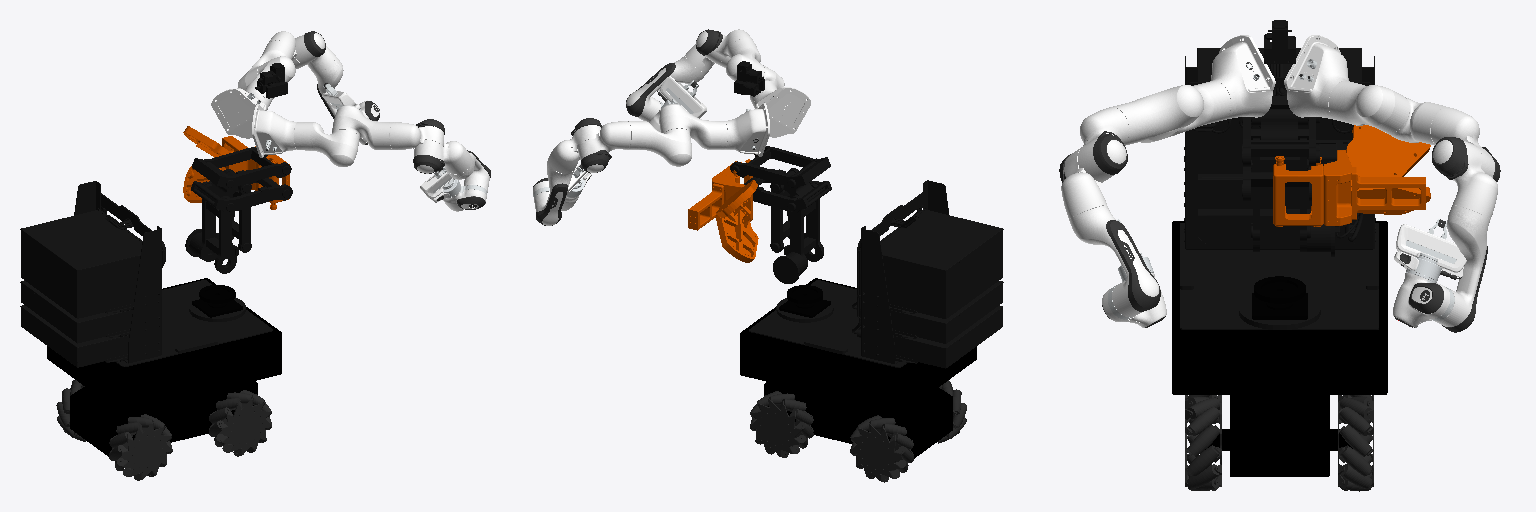
--- Facts derived from the render (not from the file) ---
Views: 3 orthographic renders of the robot side by side, from view 1: azimuth 30°, elevation 25°; view 2: azimuth 150°, elevation 25°; view 3: azimuth 270°, elevation 25°.
Model curi with 41 links and 40 joints (23 revolute, 4 continuous, 4 prismatic, 8 fixed, 1 floating), rooted at world, posed all joints at 0 but 2 set to mid-range because 0 is outside their limits (panda_left_joint4 = -1.57, panda_right_joint4 = -1.57).
Visible links, largest first — view 1: control_box, summit_xls_base_link, summit_xls_back_right_wheel_link, summit_xls_front_right_wheel_link, torso_link_b2, torso_end, torso_link_c2, panda_right_link1, panda_left_link0, panda_right_link0, torso_link_c1, panda_right_link4 (+11 smaller); view 2: control_box, summit_xls_base_link, torso_end, summit_xls_back_left_wheel_link, summit_xls_front_left_wheel_link, torso_link_b2, torso_link_c2, panda_left_link2, panda_right_link0, panda_right_link5, panda_left_link1, panda_left_link0 (+10 smaller); view 3: control_box, summit_xls_base_link, torso_end, panda_right_link5, panda_right_link0, panda_left_link0, panda_left_link5, summit_xls_front_right_wheel_link, panda_right_link2, panda_left_link4, summit_xls_front_left_wheel_link, panda_left_link1 (+16 smaller).
Link boxes in pixels (bbox=[...]): control_box: bbox=[20, 181, 272, 367]; summit_xls_base_link: bbox=[47, 278, 281, 456]; summit_xls_back_right_wheel_link: bbox=[109, 414, 172, 480]; summit_xls_front_right_wheel_link: bbox=[209, 390, 271, 456]; torso_link_b2: bbox=[185, 184, 238, 273]; torso_end: bbox=[183, 126, 289, 209]; torso_link_c2: bbox=[192, 147, 291, 189]; panda_right_link1: bbox=[294, 122, 359, 166]; panda_left_link0: bbox=[211, 88, 267, 138]; panda_right_link0: bbox=[252, 104, 296, 157]; torso_link_c1: bbox=[191, 169, 292, 213]; panda_right_link4: bbox=[413, 140, 470, 173]; control_box: bbox=[749, 180, 1003, 368]; summit_xls_base_link: bbox=[740, 278, 976, 458]; torso_end: bbox=[688, 159, 758, 262]; summit_xls_back_left_wheel_link: bbox=[850, 415, 913, 482]; summit_xls_front_left_wheel_link: bbox=[750, 391, 813, 457]; torso_link_b2: bbox=[773, 183, 823, 283]; torso_link_c2: bbox=[730, 146, 830, 188]; panda_left_link2: bbox=[628, 121, 691, 166]; panda_right_link0: bbox=[754, 87, 810, 137]; panda_right_link5: bbox=[626, 54, 706, 121]; panda_left_link1: bbox=[659, 104, 727, 149]; panda_left_link0: bbox=[724, 103, 769, 156]; control_box: bbox=[1180, 48, 1378, 329]; summit_xls_base_link: bbox=[1172, 221, 1387, 476]; torso_end: bbox=[1273, 125, 1430, 226]; panda_right_link5: bbox=[1069, 205, 1160, 316]; panda_right_link0: bbox=[1211, 35, 1275, 119]; panda_left_link0: bbox=[1284, 35, 1348, 119]; panda_left_link5: bbox=[1435, 205, 1489, 332]; summit_xls_front_right_wheel_link: bbox=[1185, 397, 1221, 490]; panda_right_link2: bbox=[1113, 85, 1203, 145]; panda_left_link4: bbox=[1432, 137, 1497, 219]; summit_xls_front_left_wheel_link: bbox=[1338, 397, 1373, 491]; panda_left_link1: bbox=[1329, 81, 1409, 132].
Bounding box of the posed robot: 1.76 × 1.18 × 1.51 m (x, y, z).
37 mesh visuals loaded from 25 distinct referenced files (23 Collada DAE); not drawn: 2 (reference not matched to a file when rendering).

robot.urdf — curi:
<?xml version="1.0" ?>
<!-- =================================================================================== -->
<!-- |    This document was autogenerated by xacro from ../robots/curi.urdf.xacro      | -->
<!-- |    EDITING THIS FILE BY HAND IS NOT RECOMMENDED                                 | -->
<!-- =================================================================================== -->
<robot name="curi">
  <!-- in kg-->
  <!-- =============================================================== -->
  <!-- || This file does not contain official inertial properties   || -->
  <!-- || of panda robot. The values are from the identification    || -->
  <!-- || results published in: Identification of the Franka Emika  || -->
  <!-- || PandaRobot With Retrieval of Feasible Parameters Using    || -->
  <!-- || Penalty-Based Optimization                                || -->
  <!-- || by: Claudio Gaz, Marco Cognetti, Alexander Oliva,         || -->
  <!-- || Paolo Robuffo Giordano, Alessandro de Luca                || -->
  <!-- =============================================================== -->
  <link name="world"/>
  <joint name="reference" type="floating">
    <parent link="world"/>
    <child link="summit_xls_base_footprint"/>
  </joint>
  <link name="summit_xls_base_footprint">
    <visual>
      <origin rpy="0 0 0" xyz="0 0 0"/>
      <geometry>
        <box size="0.001 0.001 0.001"/>
      </geometry>
    </visual>
  </link>
  <joint name="summit_xls_base_footprint_joint" type="fixed">
    <origin rpy="0 0 0" xyz="0 0 0.127"/>
    <parent link="summit_xls_base_footprint"/>
    <child link="summit_xls_base_link"/>
  </joint>
  <!-- BASE_LINK -->
  <link name="summit_xls_base_link">
    <inertial>
      <mass value="125.0"/>
      <origin xyz="0 0 0"/>
      <inertia ixx="1.391" ixy="0.004" ixz="0.0" iyy="6.853" iyz="0.0" izz="6.125"/>
    </inertial>
    <visual>
      <origin rpy="0 0 0" xyz="0 0 0"/>
      <geometry>
        <mesh filename="../meshes/robotnik/bases/summit_xls_chassis.dae"/>
      </geometry>
      <material name="black">
        <color rgba="0.0 0.0 0.0 1"/>
      </material>
    </visual>
    <collision>
      <origin rpy="0 0 0 " xyz="0 0 0"/>
      <geometry>
        <mesh filename="../meshes/robotnik/bases/summit_xls_chassis.stl"/>
      </geometry>
    </collision>
  </link>
  <joint name="summit_xls_front_right_wheel_joint" type="continuous">
    <parent link="summit_xls_base_link"/>
    <child link="summit_xls_front_right_wheel_link"/>
    <origin rpy="0 0 0" xyz="0.2225 -0.2045 0.0"/>
    <axis rpy="0 0 0" xyz="0 1 0"/>
    <limit effort="100" velocity="100"/>
    <joint_properties damping="0.0" friction="0.0"/>
  </joint>
  <link name="summit_xls_front_right_wheel_link">
    <visual>
      <origin rpy="0 0 0" xyz="0 0 0"/>
      <geometry>
        <mesh filename="../meshes/robotnik/wheels/omni_wheel_2.dae"/>
      </geometry>
      <material name="darkgrey">
        <color rgba="0.2 0.2 0.2 1"/>
      </material>
    </visual>
    <collision>
      <origin rpy="1.5707963267948966 0 0" xyz="0 0 0"/>
      <geometry>
        <cylinder length="0.087" radius="0.127"/>
      </geometry>
    </collision>
    <inertial>
      <mass value="6.5"/>
      <origin xyz="0 0 0"/>
      <inertia ixx="0.0303095" ixy="0" ixz="0" iyy="0.05241925" iyz="0" izz="0.0303095"/>
    </inertial>
  </link>
  <joint name="summit_xls_front_left_wheel_joint" type="continuous">
    <parent link="summit_xls_base_link"/>
    <child link="summit_xls_front_left_wheel_link"/>
    <origin rpy="0 0 0" xyz="0.2225 0.2045 0.0"/>
    <axis rpy="0 0 0" xyz="0 1 0"/>
    <limit effort="100" velocity="100"/>
    <joint_properties damping="0.0" friction="0.0"/>
  </joint>
  <link name="summit_xls_front_left_wheel_link">
    <visual>
      <origin rpy="0 0 0" xyz="0 0 0"/>
      <geometry>
        <mesh filename="../meshes/robotnik/wheels/omni_wheel_1.dae"/>
      </geometry>
      <material name="darkgrey">
        <color rgba="0.2 0.2 0.2 1"/>
      </material>
    </visual>
    <collision>
      <origin rpy="1.5707963267948966 0 0" xyz="0 0 0"/>
      <geometry>
        <cylinder length="0.087" radius="0.127"/>
      </geometry>
    </collision>
    <inertial>
      <mass value="6.5"/>
      <origin xyz="0 0 0"/>
      <inertia ixx="0.0303095" ixy="0" ixz="0" iyy="0.05241925" iyz="0" izz="0.0303095"/>
    </inertial>
  </link>
  <joint name="summit_xls_back_left_wheel_joint" type="continuous">
    <parent link="summit_xls_base_link"/>
    <child link="summit_xls_back_left_wheel_link"/>
    <origin rpy="0 0 0" xyz="-0.2225 0.2045 0.0"/>
    <axis rpy="0 0 0" xyz="0 1 0"/>
    <limit effort="100" velocity="100"/>
    <joint_properties damping="0.0" friction="0.0"/>
  </joint>
  <link name="summit_xls_back_left_wheel_link">
    <visual>
      <origin rpy="0 0 0" xyz="0 0 0"/>
      <geometry>
        <mesh filename="../meshes/robotnik/wheels/omni_wheel_1.dae"/>
      </geometry>
      <material name="darkgrey">
        <color rgba="0.2 0.2 0.2 1"/>
      </material>
    </visual>
    <collision>
      <origin rpy="1.5707963267948966 0 0" xyz="0 0 0"/>
      <geometry>
        <cylinder length="0.087" radius="0.127"/>
      </geometry>
    </collision>
    <inertial>
      <mass value="6.5"/>
      <origin xyz="0 0 0"/>
      <inertia ixx="0.0303095" ixy="0" ixz="0" iyy="0.05241925" iyz="0" izz="0.0303095"/>
    </inertial>
  </link>
  <joint name="summit_xls_back_right_wheel_joint" type="continuous">
    <parent link="summit_xls_base_link"/>
    <child link="summit_xls_back_right_wheel_link"/>
    <origin rpy="0 0 0" xyz="-0.2225 -0.2045 0.0"/>
    <axis rpy="0 0 0" xyz="0 1 0"/>
    <limit effort="100" velocity="100"/>
    <joint_properties damping="0.0" friction="0.0"/>
  </joint>
  <link name="summit_xls_back_right_wheel_link">
    <visual>
      <origin rpy="0 0 0" xyz="0 0 0"/>
      <geometry>
        <mesh filename="../meshes/robotnik/wheels/omni_wheel_2.dae"/>
      </geometry>
      <material name="darkgrey">
        <color rgba="0.2 0.2 0.2 1"/>
      </material>
    </visual>
    <collision>
      <origin rpy="1.5707963267948966 0 0" xyz="0 0 0"/>
      <geometry>
        <cylinder length="0.087" radius="0.127"/>
      </geometry>
    </collision>
    <inertial>
      <mass value="6.5"/>
      <origin xyz="0 0 0"/>
      <inertia ixx="0.0303095" ixy="0" ixz="0" iyy="0.05241925" iyz="0" izz="0.0303095"/>
    </inertial>
  </link>
  <joint name="torso_joint_summit_xls_base_footprint" type="fixed">
    <parent link="summit_xls_base_footprint"/>
    <child link="control_box"/>
    <origin rpy="0 0 0" xyz="0 0 0.52262"/>
  </joint>
  <link name="control_box">
    <visual>
      <origin rpy="0 0 0" xyz="0 0 0"/>
      <geometry>
        <mesh filename="../meshes/clover/visual/control_box.dae"/>
      </geometry>
    </visual>
    <inertial>
      <!-- Estimated guesses from CAD -->
      <origin rpy="0 0 0" xyz="-0.221652 1.4173e-02 0.165597"/>
      <mass value="37.813"/>
      <inertia ixx="1.672305973" ixy="-0.023504956" ixz="-0.565170381" iyy="2.616747309" iyz="0.046623093" izz="2.524344244"/>
    </inertial>
  </link>
  <link name="torso_base1">
    <visual>
      <origin rpy="0 0 0" xyz="0 0 0"/>
      <geometry>
        <mesh filename="../meshes/clover/visual/torso_base1.dae"/>
      </geometry>
    </visual>
    <collision>
      <origin rpy="0 0 0" xyz="0 0 0"/>
      <geometry>
        <mesh filename="../meshes/clover/collision/torso_base1.stl"/>
      </geometry>
    </collision>
    <inertial>
      <origin rpy="0 0 0" xyz="0 0 0.02555"/>
      <mass value="1.18"/>
      <inertia ixx="0.00241116" ixy="0" ixz="0" iyy="0.00241116" iyz="0" izz="0.00362611"/>
    </inertial>
  </link>
  <joint name="torso_joint1" type="fixed">
    <origin rpy="0 0 0" xyz="0.2375 0 0.015"/>
    <parent link="control_box"/>
    <child link="torso_base1"/>
  </joint>
  <link name="torso_base2">
    <visual>
      <origin rpy="0 0 0" xyz="0 0 0"/>
      <geometry>
        <mesh filename="../meshes/clover/visual/torso_base2.dae"/>
      </geometry>
    </visual>
    <collision>
      <origin rpy="0 0 0" xyz="0 0 0"/>
      <geometry>
        <mesh filename="../meshes/clover/collision/torso_base2.stl"/>
      </geometry>
    </collision>
    <inertial>
      <origin rpy="0 0 0" xyz="-0.05478 0.03332 -0.07616"/>
      <mass value="35.66"/>
      <inertia ixx="0.87275935" ixy="-0.06173772" ixz="0.01895727" iyy="0.57302356" iyz="0.11888755" izz="1.06212354"/>
    </inertial>
  </link>
  <joint name="torso_actuated_joint1" type="revolute">
    <safety_controller k_position="100.0" k_velocity="40.0" soft_lower_limit="-1.5" soft_upper_limit="1.5"/>
    <origin rpy="0 0 0" xyz="0 0 0.215"/>
    <parent link="torso_base1"/>
    <child link="torso_base2"/>
    <axis xyz="0 0 1"/>
    <limit acceleration="0.6" effort="300" lower="-1.57" upper="1.57" velocity="0.3"/>
    <dynamics D="1" K="7000" damping="0.003" friction="0.0" mu_coulomb="0" mu_viscous="16"/>
  </joint>
  <link name="torso_link_b2">
    <visual>
      <origin rpy="0 0 0" xyz="0 0 0"/>
      <geometry>
        <mesh filename="../meshes/clover/visual/torso_link_b2.dae"/>
      </geometry>
    </visual>
    <collision>
      <origin rpy="0 0 0" xyz="0 0 0"/>
      <geometry>
        <mesh filename="../meshes/clover/collision/torso_link_b2.stl"/>
      </geometry>
    </collision>
    <inertial>
      <origin rpy="0 0 0" xyz="2.066e-03 2.4036e-02 8.3361e-02"/>
      <mass value="2.698"/>
      <inertia ixx="0.035907338" ixy="-0.000134319" ixz="0.000037769" iyy="0.023944853" iyz="-0.005304362" izz="0.014484777"/>
    </inertial>
  </link>
  <joint name="torso_actuated_joint2" type="revolute">
    <safety_controller k_position="100.0" k_velocity="40.0" soft_lower_limit="-1.2" soft_upper_limit="0.5"/>
    <origin rpy="0 0 0" xyz="0 0 0"/>
    <parent link="torso_base2"/>
    <child link="torso_link_b2"/>
    <axis xyz="0 1 0"/>
    <limit acceleration="0.6" effort="300" lower="-1.2" upper="0.5" velocity="0.3"/>
    <dynamics D="1" K="7000" damping="0.003" friction="0.0" mu_coulomb="0" mu_viscous="16"/>
  </joint>
  <link name="torso_middle">
    <visual>
      <origin rpy="0 0 0" xyz="0 0 0"/>
      <geometry>
        <mesh filename="../meshes/clover/visual/torso_middle.dae"/>
      </geometry>
    </visual>
    <collision>
      <origin rpy="0 0 0" xyz="0 0 0"/>
      <geometry>
        <mesh filename="../meshes/clover/collision/torso_middle.stl"/>
      </geometry>
    </collision>
    <inertial>
      <origin rpy="0 0 0" xyz="3.2089e-02 0 4.789e-02"/>
      <mass value="2.688"/>
      <inertia ixx="0.00744652" ixy="-0.00003495" ixz="0.000230038" iyy="0.006884728" iyz="0.000041279" izz="0.008084049"/>
    </inertial>
  </link>
  <joint name="torso_joint5" type="revolute">
    <safety_controller k_position="100.0" k_velocity="40.0" soft_lower_limit="-0.5" soft_upper_limit="1.2"/>
    <origin rpy="0 0 0" xyz="0 0 0.25"/>
    <parent link="torso_link_b2"/>
    <child link="torso_middle"/>
    <axis xyz="0 1 0"/>
    <limit acceleration="0.6" effort="300" lower="-0.5" upper="1.2" velocity="0.3"/>
    <dynamics D="1" K="7000" damping="0.003" friction="0.0" mu_coulomb="0" mu_viscous="16"/>
    <mimic joint="torso_actuated_joint2" multiplier="-1"/>
  </joint>
  <link name="torso_link_c1">
    <visual>
      <origin rpy="0 0 0" xyz="0 0 0"/>
      <geometry>
        <mesh filename="../meshes/clover/visual/torso_link_c1.dae"/>
      </geometry>
    </visual>
    <collision>
      <origin rpy="0 0 0" xyz="0 0 0"/>
      <geometry>
        <mesh filename="../meshes/clover/collision/torso_link_c1.stl"/>
      </geometry>
    </collision>
    <inertial>
      <origin rpy="0 0 0" xyz="0.10533 1.503e-03 9.863e-03"/>
      <mass value="2.4"/>
      <inertia ixx="0.014986407" ixy="-1.7102e-05" ixz="-4.53321e-04" iyy="0.027549549" iyz="-3.557e-05" izz="0.041344611"/>
    </inertial>
  </link>
  <joint name="torso_actuated_joint3" type="revolute">
    <safety_controller k_position="100.0" k_velocity="40.0" soft_lower_limit="-0.9" soft_upper_limit="0.9"/>
    <origin rpy="0 0 0" xyz="0 0 0"/>
    <parent link="torso_middle"/>
    <child link="torso_link_c1"/>
    <axis xyz="0 1 0"/>
    <limit acceleration="0.6" effort="300" lower="-0.9" upper="0.9" velocity="0.3"/>
    <dynamics D="1" K="7000" damping="0.003" friction="0.0" mu_coulomb="0" mu_viscous="16"/>
  </joint>
  <link name="torso_end">
    <visual>
      <origin rpy="0 0 0" xyz="0 0 0"/>
      <geometry>
        <mesh filename="../meshes/clover/visual/torso_end_v2_yup.dae"/>
      </geometry>
    </visual>
    <collision>
      <origin rpy="0 0 0" xyz="0 0 0"/>
      <geometry>
        <mesh filename="../meshes/clover/collision/torso_end_v2_yup.stl"/>
      </geometry>
    </collision>
    <inertial>
      <origin rpy="0 0 0" xyz="1.3086e-02 0.132e-03 0.184066"/>
      <mass value="12.083"/>
      <inertia ixx="0.146638956" ixy="-2.2432e-05" ixz="-0.012989506" iyy="0.097685785" iyz="-2.19304e-04" izz="0.100449047"/>
    </inertial>
  </link>
  <joint name="torso_joint8" type="revolute">
    <safety_controller k_position="100.0" k_velocity="40.0" soft_lower_limit="-0.9" soft_upper_limit="0.9"/>
    <origin rpy="0 0 0" xyz="0.25 0 0"/>
    <parent link="torso_link_c1"/>
    <child link="torso_end"/>
    <axis xyz="0 1 0"/>
    <limit acceleration="0.6" effort="300" lower="-0.9" upper="0.9" velocity="0.3"/>
    <dynamics D="1" K="7000" damping="0.003" friction="0.0" mu_coulomb="0" mu_viscous="16"/>
    <mimic joint="torso_actuated_joint3" multiplier="-1"/>
  </joint>
  <link name="torso_link_b1">
    <visual>
      <origin rpy="0 0 0" xyz="0 0 0"/>
      <geometry>
        <mesh filename="../meshes/clover/visual/torso_link_b1.dae"/>
      </geometry>
    </visual>
    <collision>
      <origin rpy="0 0 0" xyz="0 0 0"/>
      <geometry>
        <mesh filename="../meshes/clover/collision/torso_link_b1.stl"/>
      </geometry>
    </collision>
    <inertial>
      <origin rpy="0 0 0" xyz="0 -0.362e-03 0.12405"/>
      <mass value="1.319"/>
      <inertia ixx="0.01417626" ixy="0" ixz="0" iyy="0.01069895" iyz="0.00005678" izz="0.0039678"/>
    </inertial>
  </link>
  <joint name="torso_joint4" type="revolute">
    <safety_controller k_position="100.0" k_velocity="40.0" soft_lower_limit="-1.2" soft_upper_limit="0.5"/>
    <origin rpy="0 0 0" xyz="0.0866 0 0.05"/>
    <parent link="torso_base2"/>
    <child link="torso_link_b1"/>
    <axis xyz="0 1 0"/>
    <limit acceleration="0.6" effort="300" lower="-1.2" upper="0.5" velocity="0.3"/>
    <dynamics D="1" K="7000" damping="0.003" friction="0.0" mu_coulomb="0" mu_viscous="16"/>
    <mimic joint="torso_actuated_joint2" multiplier="1"/>
  </joint>
  <link name="torso_link_c2">
    <visual>
      <origin rpy="0 0 0" xyz="0 0 0"/>
      <geometry>
        <mesh filename="../meshes/clover/visual/torso_link_c2.dae"/>
      </geometry>
    </visual>
    <collision>
      <origin rpy="0 0 0" xyz="0 0 0"/>
      <geometry>
        <mesh filename="../meshes/clover/collision/torso_link_c2.stl"/>
      </geometry>
    </collision>
    <inertial>
      <origin rpy="0 0 0" xyz="0.120384 0.569e-03 6.703e-03"/>
      <mass value="2.148"/>
      <inertia ixx="0.010693997" ixy="5.645e-06" ixz="-9.4779e-04" iyy="0.026717753" iyz="-8.196e-06" izz="0.036543169"/>
    </inertial>
  </link>
  <joint name="torso_joint7" type="revolute">
    <safety_controller k_position="100.0" k_velocity="40.0" soft_lower_limit="-0.9" soft_upper_limit="0.9"/>
    <origin rpy="0 0 0" xyz="0 0 0.1"/>
    <parent link="torso_middle"/>
    <child link="torso_link_c2"/>
    <axis xyz="0 1 0"/>
    <limit acceleration="0.6" effort="300" lower="-0.9" upper="0.9" velocity="0.3"/>
    <dynamics D="1" K="7000" damping="0.003" friction="0.0" mu_coulomb="0" mu_viscous="16"/>
    <mimic joint="torso_actuated_joint3" multiplier="1"/>
  </joint>
  <joint name="head_joint_torso_end" type="fixed">
    <parent link="torso_end"/>
    <child link="head_base"/>
    <origin rpy="0 0 0" xyz="0.02 0 0.3929"/>
  </joint>
  <link name="head_base">
    <visual>
      <origin rpy="0 0 0" xyz="0 0 0"/>
      <geometry>
        <mesh filename="../meshes/clover/visual/head_base.dae"/>
      </geometry>
    </visual>
    <collision>
      <origin rpy="0 0 0" xyz="0 0 0"/>
      <geometry>
        <mesh filename="../meshes/clover/collision/head_base.stl"/>
      </geometry>
    </collision>
    <inertial>
      <!-- Estimated guesses from CAD -->
      <origin rpy="0 0 0" xyz="-1.9726e-02 1.281e-03 2.2693e-02"/>
      <mass value="0.803"/>
      <inertia ixx="6.56432e-04" ixy="-3.4976e-05" ixz="0.652e-6" iyy="6.42664e-04" iyz="-1.577e-06" izz="1.046862e-03"/>
    </inertial>
  </link>
  <joint name="head_actuated_joint1" type="revolute">
    <safety_controller k_position="100.0" k_velocity="40.0" soft_lower_limit="-1.5" soft_upper_limit="1.5"/>
    <origin rpy="0 0 0" xyz="0 0 0.045"/>
    <parent link="head_base"/>
    <child link="head_link1"/>
    <axis xyz="0 0 1"/>
    <limit effort="30" lower="-1.57" upper="1.57" velocity="1.0"/>
    <dynamics D="1" K="7000" damping="0.003" friction="0.0" mu_coulomb="0" mu_viscous="16"/>
  </joint>
  <link name="head_link1">
    <visual>
      <origin rpy="0 0 0" xyz="0 0 0"/>
      <geometry>
        <mesh filename="../meshes/clover/visual/head_link1.dae"/>
      </geometry>
    </visual>
    <collision>
      <origin rpy="0 0 0" xyz="0 0 0"/>
      <geometry>
        <mesh filename="../meshes/clover/collision/head_link1.stl"/>
      </geometry>
    </collision>
    <inertial>
      <!-- Estimated guesses from CAD -->
      <origin rpy="0 0 0" xyz="-1.8392e-02 -0.4e-03 2.8338e-02"/>
      <mass value="0.534"/>
      <inertia ixx="2.34142e-04" ixy="-3.129e-06" ixz="6.321e-05" iyy="5.09246e-04" iyz="1.49e-06" izz="4.3777e-04"/>
    </inertial>
  </link>
  <joint name="head_actuated_joint2" type="revolute">
    <safety_controller k_position="100.0" k_velocity="40.0" soft_lower_limit="-0.8" soft_upper_limit="0.5"/>
    <origin rpy="0 0 0" xyz="0 0 0.043"/>
    <parent link="head_link1"/>
    <child link="head_link2"/>
    <axis xyz="0 1 0"/>
    <limit effort="30" lower="-0.82" upper="0.52" velocity="1.0"/>
    <dynamics D="1" K="7000" damping="0.003" friction="0.0" mu_coulomb="0" mu_viscous="16"/>
  </joint>
  <link name="head_link2">
    <visual>
      <origin rpy="0 0 0" xyz="0 0 0"/>
      <geometry>
        <mesh filename="../meshes/clover/visual/head_link2.dae"/>
      </geometry>
    </visual>
    <collision>
      <origin rpy="0 0 0" xyz="0 0 0"/>
      <geometry>
        <mesh filename="../meshes/clover/collision/head_link2.stl"/>
      </geometry>
    </collision>
    <inertial>
      <!-- Estimated guesses from CAD -->
      <origin rpy="0 0 0" xyz="3.8624e-02 0 0.143829"/>
      <mass value="1.346"/>
      <inertia ixx="0.010306864" ixy="-5.953e-06" ixz="6.74795e-04" iyy="0.011632066" iyz="-1.125e-06" izz="0.009582498"/>
    </inertial>
  </link>
  <joint name="panda_left_joint_torso_end" type="fixed">
    <parent link="torso_end"/>
    <child link="panda_left_link0"/>
    <origin rpy="-1.3685238493647454 0.913218224774749 -0.6168337646727412" xyz="-0.08537 0.07009 0.2535"/>
  </joint>
  <link name="panda_left_link0">
    <visual>
      <origin rpy="0 0 0" xyz="0 0 0"/>
      <geometry>
        <mesh filename="../meshes/franka/visual/link0.dae"/>
      </geometry>
    </visual>
    <collision>
      <origin rpy="0 0 0" xyz="0 0 0"/>
      <geometry>
        <mesh filename="../meshes/franka/collision/link0.stl"/>
      </geometry>
    </collision>
    <inertial>
      <!-- Estimated guesses from CAD -->
      <origin rpy="0 0 0" xyz="-0.041018 -0.00014 0.049974"/>
      <mass value="0.629769"/>
      <inertia ixx="0.00315" ixy="8.2904E-07" ixz="0.00015" iyy="0.00388" iyz="8.2299E-06" izz="0.004285"/>
    </inertial>
  </link>
  <link name="panda_left_link1">
    <visual>
      <origin rpy="0 0 0" xyz="0 0 0"/>
      <geometry>
        <mesh filename="../meshes/franka/visual/link1.dae"/>
      </geometry>
    </visual>
    <collision>
      <origin rpy="0 0 0" xyz="0 0 0"/>
      <geometry>
        <mesh filename="../meshes/franka/collision/link1.stl"/>
      </geometry>
    </collision>
    <inertial>
      <origin rpy="0 0 0" xyz="0.003875 0.002081 -0.04762"/>
      <mass value="4.970684"/>
      <inertia ixx="0.70337" ixy="-0.00013900" ixz="0.0067720" iyy="0.70661" iyz="0.019169" izz="0.0091170"/>
    </inertial>
  </link>
  <joint name="panda_left_joint1" type="revolute">
    <safety_controller k_position="100.0" k_velocity="40.0" soft_lower_limit="-2.8973" soft_upper_limit="2.8973"/>
    <origin rpy="0 0 0" xyz="0 0 0.333"/>
    <parent link="panda_left_link0"/>
    <child link="panda_left_link1"/>
    <axis xyz="0 0 1"/>
    <limit acceleration="15" effort="87" lower="-2.8973" upper="2.8973" velocity="2.1750"/>
    <dynamics D="1" K="7000" damping="0.003" friction="0.0" mu_coulomb="0" mu_viscous="16"/>
  </joint>
  <link name="panda_left_link2">
    <visual>
      <origin rpy="0 0 0" xyz="0 0 0"/>
      <geometry>
        <mesh filename="../meshes/franka/visual/link2.dae"/>
      </geometry>
    </visual>
    <collision>
      <origin rpy="0 0 0" xyz="0 0 0"/>
      <geometry>
        <mesh filename="../meshes/franka/collision/link2.stl"/>
      </geometry>
    </collision>
    <inertial>
      <origin rpy="0 0 0" xyz=" -0.003141 -0.02872  0.003495"/>
      <mass value="0.646926"/>
      <inertia ixx="0.0079620" ixy="-3.9250e-3" ixz="1.0254e-02" iyy="2.8110e-02" iyz="7.0400e-04" izz="2.5995e-02"/>
    </inertial>
  </link>
  <joint name="panda_left_joint2" type="revolute">
    <safety_controller k_position="100.0" k_velocity="40.0" soft_lower_limit="-1.7628" soft_upper_limit="1.7628"/>
    <origin rpy="-1.5707963267948966 0 0" xyz="0 0 0"/>
    <parent link="panda_left_link1"/>
    <child link="panda_left_link2"/>
    <axis xyz="0 0 1"/>
    <limit acceleration="7.5" effort="87" lower="-1.7628" upper="1.7628" velocity="2.1750"/>
    <dynamics D="1" K="7000" damping="0.003" friction="0.0" mu_coulomb="0" mu_viscous="16"/>
  </joint>
  <link name="panda_left_link3">
    <visual>
      <origin rpy="0 0 0" xyz="0 0 0"/>
      <geometry>
        <mesh filename="../meshes/franka/visual/link3.dae"/>
      </geometry>
    </visual>
    <collision>
      <origin rpy="0 0 0" xyz="0 0 0"/>
      <geometry>
        <mesh filename="../meshes/franka/collision/link3.stl"/>
      </geometry>
    </collision>
    <inertial>
      <origin rpy="0 0 0" xyz="2.7518e-02 3.9252e-02 -6.6502e-02"/>
      <mass value="3.228604"/>
      <inertia ixx="3.7242e-02" ixy="-4.7610e-03" ixz="-1.1396e-02" iyy="3.6155e-02" iyz="-1.2805e-02" izz="1.0830e-02"/>
    </inertial>
  </link>
  <joint name="panda_left_joint3" type="revolute">
    <safety_controller k_position="100.0" k_velocity="40.0" soft_lower_limit="-2.8973" soft_upper_limit="2.8973"/>
    <origin rpy="1.5707963267948966 0 0" xyz="0 -0.316 0"/>
    <parent link="panda_left_link2"/>
    <child link="panda_left_link3"/>
    <axis xyz="0 0 1"/>
    <limit acceleration="12.5" effort="87" lower="-2.8973" upper="2.8973" velocity="2.1750"/>
    <dynamics D="1" K="7000" damping="0.003" friction="0.0" mu_coulomb="0" mu_viscous="16"/>
  </joint>
  <link name="panda_left_link4">
    <visual>
      <origin rpy="0 0 0" xyz="0 0 0"/>
      <geometry>
        <mesh filename="../meshes/franka/visual/link4.dae"/>
      </geometry>
    </visual>
    <collision>
      <origin rpy="0 0 0" xyz="0 0 0"/>
      <geometry>
        <mesh filename="../meshes/franka/collision/link4.stl"/>
      </geometry>
    </collision>
    <inertial>
      <origin rpy="0 0 0" xyz="-5.317e-02 1.04419e-01 2.7454e-02"/>
      <mass value="3.587895"/>
      <inertia ixx="2.5853e-02" ixy="7.7960e-03" ixz="-1.3320e-03" iyy="1.9552e-02" iyz="8.6410e-03" izz="2.8323e-02"/>
    </inertial>
  </link>
  <joint name="panda_left_joint4" type="revolute">
    <safety_controller k_position="100.0" k_velocity="40.0" soft_lower_limit="-3.0718" soft_upper_limit="-0.0698"/>
    <origin rpy="1.5707963267948966 0 0" xyz="0.0825 0 0"/>
    <parent link="panda_left_link3"/>
    <child link="panda_left_link4"/>
    <axis xyz="0 0 1"/>
    <limit acceleration="12.5" effort="87" lower="-3.0718" upper="-0.0698" velocity="2.1750"/>
    <dynamics D="1" K="7000" damping="0.003" friction="0.0" mu_coulomb="0" mu_viscous="16"/>
  </joint>
  <link name="panda_left_link5">
    <visual>
      <origin rpy="0 0 0" xyz="0 0 0"/>
      <geometry>
        <mesh filename="../meshes/franka/visual/link5.dae"/>
      </geometry>
    </visual>
    <collision>
      <origin rpy="0 0 0" xyz="0 0 0"/>
      <geometry>
        <mesh filename="../meshes/franka/collision/link5.stl"/>
      </geometry>
    </collision>
    <inertial>
      <origin rpy="0 0 0" xyz="-1.1953e-02 4.1065e-02 -3.8437e-02"/>
      <mass value="1.225946"/>
      <inertia ixx="3.5549e-02" ixy="-2.1170e-03" ixz="-4.0370e-03" iyy="2.9474e-02" iyz="2.2900e-04" izz="8.6270e-03"/>
    </inertial>
  </link>
  <joint name="panda_left_joint5" type="revolute">
    <safety_controller k_position="100.0" k_velocity="40.0" soft_lower_limit="-2.8973" soft_upper_limit="2.8973"/>
    <origin rpy="-1.5707963267948966 0 0" xyz="-0.0825 0.384 0"/>
    <parent link="panda_left_link4"/>
    <child link="panda_left_link5"/>
    <axis xyz="0 0 1"/>
    <limit acceleration="15" effort="12" lower="-2.8973" upper="2.8973" velocity="2.6100"/>
    <dynamics D="1" K="7000" damping="0.003" friction="0.0" mu_coulomb="0" mu_viscous="16"/>
  </joint>
  <link name="panda_left_link6">
    <visual>
      <origin rpy="0 0 0" xyz="0 0 0"/>
      <geometry>
        <mesh filename="../meshes/franka/visual/link6.dae"/>
      </geometry>
    </visual>
    <collision>
      <origin rpy="0 0 0" xyz="0 0 0"/>
      <geometry>
        <mesh filename="../meshes/franka/collision/link6.stl"/>
      </geometry>
    </collision>
    <inertial>
      <origin rpy="0 0 0" xyz="6.0149e-02 -1.4117e-02 -1.0517e-02"/>
      <mass value="1.666555"/>
      <inertia ixx="1.9640e-03" ixy="1.0900e-04" ixz="-1.1580e-03" iyy="4.3540e-03" iyz="3.4100e-04" izz="5.4330e-03"/>
    </inertial>
  </link>
  <joint name="panda_left_joint6" type="revolute">
    <safety_controller k_position="100.0" k_velocity="40.0" soft_lower_limit="-0.0175" soft_upper_limit="3.7525"/>
    <origin rpy="1.5707963267948966 0 0" xyz="0 0 0"/>
    <parent link="panda_left_link5"/>
    <child link="panda_left_link6"/>
    <axis xyz="0 0 1"/>
    <limit acceleration="20" effort="12" lower="-0.0175" upper="3.7525" velocity="2.6100"/>
    <dynamics D="1" K="7000" damping="0.003" friction="0.0" mu_coulomb="0" mu_viscous="16"/>
  </joint>
  <link name="panda_left_link7">
    <visual>
      <origin rpy="0 0 0" xyz="0 0 0"/>
      <geometry>
        <mesh filename="../meshes/franka/visual/link7.dae"/>
      </geometry>
    </visual>
    <collision>
      <origin rpy="0 0 0" xyz="0 0 0"/>
      <geometry>
        <mesh filename="../meshes/franka/collision/link7.stl"/>
      </geometry>
    </collision>
    <inertial>
      <origin rpy="0 0 0" xyz="1.0517e-02 -4.252e-03 6.1597e-02"/>
      <mass value="7.35522e-01"/>
      <inertia ixx="1.2516e-02" ixy="-4.2800e-04" ixz="-1.1960e-03" iyy="1.0027e-02" iyz="-7.4100e-04" izz="4.8150e-03"/>
    </inertial>
  </link>
  <joint name="panda_left_joint7" type="revolute">
    <safety_controller k_position="100.0" k_velocity="40.0" soft_lower_limit="-2.8973" soft_upper_limit="2.8973"/>
    <origin rpy="1.5707963267948966 0 0" xyz="0.088 0 0"/>
    <parent link="panda_left_link6"/>
    <child link="panda_left_link7"/>
    <axis xyz="0 0 1"/>
    <limit acceleration="20" effort="12" lower="-2.8973" upper="2.8973" velocity="2.6100"/>
    <dynamics D="1" K="7000" damping="0.003" friction="0.0" mu_coulomb="0" mu_viscous="16"/>
  </joint>
  <joint name="panda_right_joint_torso_end" type="fixed">
    <parent link="torso_end"/>
    <child link="panda_right_link0"/>
    <origin rpy="1.3685238493647454 0.913218224774749 0.6168337646727412" xyz="-0.08537 -0.07009 0.2535"/>
  </joint>
  <link name="panda_right_link0">
    <visual>
      <origin rpy="0 0 0" xyz="0 0 0"/>
      <geometry>
        <mesh filename="../meshes/franka/visual/link0.dae"/>
      </geometry>
    </visual>
    <collision>
      <origin rpy="0 0 0" xyz="0 0 0"/>
      <geometry>
        <mesh filename="../meshes/franka/collision/link0.stl"/>
      </geometry>
    </collision>
    <inertial>
      <!-- Estimated guesses from CAD -->
      <origin rpy="0 0 0" xyz="-0.041018 -0.00014 0.049974"/>
      <mass value="0.629769"/>
      <inertia ixx="0.00315" ixy="8.2904E-07" ixz="0.00015" iyy="0.00388" iyz="8.2299E-06" izz="0.004285"/>
    </inertial>
  </link>
  <link name="panda_right_link1">
    <visual>
      <origin rpy="0 0 0" xyz="0 0 0"/>
      <geometry>
        <mesh filename="../meshes/franka/visual/link1.dae"/>
      </geometry>
    </visual>
    <collision>
      <origin rpy="0 0 0" xyz="0 0 0"/>
      <geometry>
        <mesh filename="../meshes/franka/collision/link1.stl"/>
      </geometry>
    </collision>
    <inertial>
      <origin rpy="0 0 0" xyz="0.003875 0.002081 -0.04762"/>
      <mass value="4.970684"/>
      <inertia ixx="0.70337" ixy="-0.00013900" ixz="0.0067720" iyy="0.70661" iyz="0.019169" izz="0.0091170"/>
    </inertial>
  </link>
  <joint name="panda_right_joint1" type="revolute">
    <safety_controller k_position="100.0" k_velocity="40.0" soft_lower_limit="-2.8973" soft_upper_limit="2.8973"/>
    <origin rpy="0 0 0" xyz="0 0 0.333"/>
    <parent link="panda_right_link0"/>
    <child link="panda_right_link1"/>
    <axis xyz="0 0 1"/>
    <limit acceleration="15" effort="87" lower="-2.8973" upper="2.8973" velocity="2.1750"/>
    <dynamics D="1" K="7000" damping="0.003" friction="0.0" mu_coulomb="0" mu_viscous="16"/>
  </joint>
  <link name="panda_right_link2">
    <visual>
      <origin rpy="0 0 0" xyz="0 0 0"/>
      <geometry>
        <mesh filename="../meshes/franka/visual/link2.dae"/>
      </geometry>
    </visual>
    <collision>
      <origin rpy="0 0 0" xyz="0 0 0"/>
      <geometry>
        <mesh filename="../meshes/franka/collision/link2.stl"/>
      </geometry>
    </collision>
    <inertial>
      <origin rpy="0 0 0" xyz=" -0.003141 -0.02872  0.003495"/>
      <mass value="0.646926"/>
      <inertia ixx="0.0079620" ixy="-3.9250e-3" ixz="1.0254e-02" iyy="2.8110e-02" iyz="7.0400e-04" izz="2.5995e-02"/>
    </inertial>
  </link>
  <joint name="panda_right_joint2" type="revolute">
    <safety_controller k_position="100.0" k_velocity="40.0" soft_lower_limit="-1.7628" soft_upper_limit="1.7628"/>
    <origin rpy="-1.5707963267948966 0 0" xyz="0 0 0"/>
    <parent link="panda_right_link1"/>
    <child link="panda_right_link2"/>
    <axis xyz="0 0 1"/>
    <limit acceleration="7.5" effort="87" lower="-1.7628" upper="1.7628" velocity="2.1750"/>
    <dynamics D="1" K="7000" damping="0.003" friction="0.0" mu_coulomb="0" mu_viscous="16"/>
  </joint>
  <link name="panda_right_link3">
    <visual>
      <origin rpy="0 0 0" xyz="0 0 0"/>
      <geometry>
        <mesh filename="../meshes/franka/visual/link3.dae"/>
      </geometry>
    </visual>
    <collision>
      <origin rpy="0 0 0" xyz="0 0 0"/>
      <geometry>
        <mesh filename="../meshes/franka/collision/link3.stl"/>
      </geometry>
    </collision>
    <inertial>
      <origin rpy="0 0 0" xyz="2.7518e-02 3.9252e-02 -6.6502e-02"/>
      <mass value="3.228604"/>
      <inertia ixx="3.7242e-02" ixy="-4.7610e-03" ixz="-1.1396e-02" iyy="3.6155e-02" iyz="-1.2805e-02" izz="1.0830e-02"/>
    </inertial>
  </link>
  <joint name="panda_right_joint3" type="revolute">
    <safety_controller k_position="100.0" k_velocity="40.0" soft_lower_limit="-2.8973" soft_upper_limit="2.8973"/>
    <origin rpy="1.5707963267948966 0 0" xyz="0 -0.316 0"/>
    <parent link="panda_right_link2"/>
    <child link="panda_right_link3"/>
    <axis xyz="0 0 1"/>
    <limit acceleration="12.5" effort="87" lower="-2.8973" upper="2.8973" velocity="2.1750"/>
    <dynamics D="1" K="7000" damping="0.003" friction="0.0" mu_coulomb="0" mu_viscous="16"/>
  </joint>
  <link name="panda_right_link4">
    <visual>
      <origin rpy="0 0 0" xyz="0 0 0"/>
      <geometry>
        <mesh filename="../meshes/franka/visual/link4.dae"/>
      </geometry>
    </visual>
    <collision>
      <origin rpy="0 0 0" xyz="0 0 0"/>
      <geometry>
        <mesh filename="../meshes/franka/collision/link4.stl"/>
      </geometry>
    </collision>
    <inertial>
      <origin rpy="0 0 0" xyz="-5.317e-02 1.04419e-01 2.7454e-02"/>
      <mass value="3.587895"/>
      <inertia ixx="2.5853e-02" ixy="7.7960e-03" ixz="-1.3320e-03" iyy="1.9552e-02" iyz="8.6410e-03" izz="2.8323e-02"/>
    </inertial>
  </link>
  <joint name="panda_right_joint4" type="revolute">
    <safety_controller k_position="100.0" k_velocity="40.0" soft_lower_limit="-3.0718" soft_upper_limit="-0.0698"/>
    <origin rpy="1.5707963267948966 0 0" xyz="0.0825 0 0"/>
    <parent link="panda_right_link3"/>
    <child link="panda_right_link4"/>
    <axis xyz="0 0 1"/>
    <limit acceleration="12.5" effort="87" lower="-3.0718" upper="-0.0698" velocity="2.1750"/>
    <dynamics D="1" K="7000" damping="0.003" friction="0.0" mu_coulomb="0" mu_viscous="16"/>
  </joint>
  <link name="panda_right_link5">
    <visual>
      <origin rpy="0 0 0" xyz="0 0 0"/>
      <geometry>
        <mesh filename="../meshes/franka/visual/link5.dae"/>
      </geometry>
    </visual>
    <collision>
      <origin rpy="0 0 0" xyz="0 0 0"/>
      <geometry>
        <mesh filename="../meshes/franka/collision/link5.stl"/>
      </geometry>
    </collision>
    <inertial>
      <origin rpy="0 0 0" xyz="-1.1953e-02 4.1065e-02 -3.8437e-02"/>
      <mass value="1.225946"/>
      <inertia ixx="3.5549e-02" ixy="-2.1170e-03" ixz="-4.0370e-03" iyy="2.9474e-02" iyz="2.2900e-04" izz="8.6270e-03"/>
    </inertial>
  </link>
  <joint name="panda_right_joint5" type="revolute">
    <safety_controller k_position="100.0" k_velocity="40.0" soft_lower_limit="-2.8973" soft_upper_limit="2.8973"/>
    <origin rpy="-1.5707963267948966 0 0" xyz="-0.0825 0.384 0"/>
    <parent link="panda_right_link4"/>
    <child link="panda_right_link5"/>
    <axis xyz="0 0 1"/>
    <limit acceleration="15" effort="12" lower="-2.8973" upper="2.8973" velocity="2.6100"/>
    <dynamics D="1" K="7000" damping="0.003" friction="0.0" mu_coulomb="0" mu_viscous="16"/>
  </joint>
  <link name="panda_right_link6">
    <visual>
      <origin rpy="0 0 0" xyz="0 0 0"/>
      <geometry>
        <mesh filename="../meshes/franka/visual/link6.dae"/>
      </geometry>
    </visual>
    <collision>
      <origin rpy="0 0 0" xyz="0 0 0"/>
      <geometry>
        <mesh filename="../meshes/franka/collision/link6.stl"/>
      </geometry>
    </collision>
    <inertial>
      <origin rpy="0 0 0" xyz="6.0149e-02 -1.4117e-02 -1.0517e-02"/>
      <mass value="1.666555"/>
      <inertia ixx="1.9640e-03" ixy="1.0900e-04" ixz="-1.1580e-03" iyy="4.3540e-03" iyz="3.4100e-04" izz="5.4330e-03"/>
    </inertial>
  </link>
  <joint name="panda_right_joint6" type="revolute">
    <safety_controller k_position="100.0" k_velocity="40.0" soft_lower_limit="-0.0175" soft_upper_limit="3.7525"/>
    <origin rpy="1.5707963267948966 0 0" xyz="0 0 0"/>
    <parent link="panda_right_link5"/>
    <child link="panda_right_link6"/>
    <axis xyz="0 0 1"/>
    <limit acceleration="20" effort="12" lower="-0.0175" upper="3.7525" velocity="2.6100"/>
    <dynamics D="1" K="7000" damping="0.003" friction="0.0" mu_coulomb="0" mu_viscous="16"/>
  </joint>
  <link name="panda_right_link7">
    <visual>
      <origin rpy="0 0 0" xyz="0 0 0"/>
      <geometry>
        <mesh filename="../meshes/franka/visual/link7.dae"/>
      </geometry>
    </visual>
    <collision>
      <origin rpy="0 0 0" xyz="0 0 0"/>
      <geometry>
        <mesh filename="../meshes/franka/collision/link7.stl"/>
      </geometry>
    </collision>
    <inertial>
      <origin rpy="0 0 0" xyz="1.0517e-02 -4.252e-03 6.1597e-02"/>
      <mass value="7.35522e-01"/>
      <inertia ixx="1.2516e-02" ixy="-4.2800e-04" ixz="-1.1960e-03" iyy="1.0027e-02" iyz="-7.4100e-04" izz="4.8150e-03"/>
    </inertial>
  </link>
  <joint name="panda_right_joint7" type="revolute">
    <safety_controller k_position="100.0" k_velocity="40.0" soft_lower_limit="-2.8973" soft_upper_limit="2.8973"/>
    <origin rpy="1.5707963267948966 0 0" xyz="0.088 0 0"/>
    <parent link="panda_right_link6"/>
    <child link="panda_right_link7"/>
    <axis xyz="0 0 1"/>
    <limit acceleration="20" effort="12" lower="-2.8973" upper="2.8973" velocity="2.6100"/>
    <dynamics D="1" K="7000" damping="0.003" friction="0.0" mu_coulomb="0" mu_viscous="16"/>
  </joint>
  <joint name="panda_left_hand_joint" type="fixed">
    <parent link="panda_left_link7"/>
    <child link="panda_left_hand"/>
    <origin rpy="0 0 -0.7853981633974483" xyz="0 0 0.107"/>
  </joint>
  <link name="panda_left_hand">
    <visual>
      <geometry>
        <mesh filename="../meshes/franka/visual/hand.dae"/>
      </geometry>
    </visual>
    <collision>
      <geometry>
        <mesh filename="../meshes/franka/collision/hand.stl"/>
      </geometry>
    </collision>
    <inertial>
      <mass value="0.73"/>
      <origin xyz="-0.01 0 0.03"/>
      <inertia ixx="0.001" ixy="0" ixz="0" iyy="0.0025" iyz="0" izz="0.0017"/>
    </inertial>
  </link>
  <link name="panda_left_leftfinger">
    <inertial>
      <mass value="0.015"/>
      <inertia ixx="2.3749999999999997e-06" ixy="0" ixz="0" iyy="2.3749999999999997e-06" iyz="0" izz="7.5e-07"/>
    </inertial>
    <visual>
      <geometry>
        <mesh filename="../meshes/franka/visual/finger.dae"/>
      </geometry>
    </visual>
    <!-- screw mount -->
    <collision>
      <origin rpy="0 0 0" xyz="0 +18.5e-3 11e-3"/>
      <geometry>
        <box size="22e-3 15e-3 20e-3"/>
      </geometry>
    </collision>
    <!-- cartriage sledge -->
    <collision>
      <origin rpy="0 0 0" xyz="0 +6.8e-3 2.2e-3"/>
      <geometry>
        <box size="22e-3 8.8e-3 3.8e-3"/>
      </geometry>
    </collision>
    <!-- diagonal finger -->
    <collision>
      <origin rpy="+0.5235987755982988 0 0" xyz="0 +15.9e-3 28.35e-3"/>
      <geometry>
        <box size="17.5e-3 7e-3 23.5e-3"/>
      </geometry>
    </collision>
    <!-- rubber tip with which to grasp -->
    <collision>
      <origin rpy="0 0 0" xyz="0 +7.58e-3 45.25e-3"/>
      <geometry>
        <box size="17.5e-3 15.2e-3 18.5e-3"/>
      </geometry>
    </collision>
  </link>
  <link name="panda_left_rightfinger">
    <inertial>
      <mass value="0.015"/>
      <inertia ixx="2.3749999999999997e-06" ixy="0" ixz="0" iyy="2.3749999999999997e-06" iyz="0" izz="7.5e-07"/>
    </inertial>
    <visual>
      <origin rpy="0 0 3.141592653589793" xyz="0 0 0"/>
      <geometry>
        <mesh filename="../meshes/franka/visual/finger.dae"/>
      </geometry>
    </visual>
    <!-- screw mount -->
    <collision>
      <origin rpy="0 0 0" xyz="0 -18.5e-3 11e-3"/>
      <geometry>
        <box size="22e-3 15e-3 20e-3"/>
      </geometry>
    </collision>
    <!-- cartriage sledge -->
    <collision>
      <origin rpy="0 0 0" xyz="0 -6.8e-3 2.2e-3"/>
      <geometry>
        <box size="22e-3 8.8e-3 3.8e-3"/>
      </geometry>
    </collision>
    <!-- diagonal finger -->
    <collision>
      <origin rpy="-0.5235987755982988 0 0" xyz="0 -15.9e-3 28.35e-3"/>
      <geometry>
        <box size="17.5e-3 7e-3 23.5e-3"/>
      </geometry>
    </collision>
    <!-- rubber tip with which to grasp -->
    <collision>
      <origin rpy="0 0 0" xyz="0 -7.58e-3 45.25e-3"/>
      <geometry>
        <box size="17.5e-3 15.2e-3 18.5e-3"/>
      </geometry>
    </collision>
  </link>
  <joint name="panda_left_finger_joint1" type="prismatic">
    <parent link="panda_left_hand"/>
    <child link="panda_left_leftfinger"/>
    <origin rpy="0 0 0" xyz="0 0 0.0584"/>
    <axis xyz="0 1 0"/>
    <limit effort="100" lower="0.0" upper="0.04" velocity="0.2"/>
    <dynamics damping="0.03" friction="0.0"/>
  </joint>
  <joint name="panda_left_finger_joint2" type="prismatic">
    <parent link="panda_left_hand"/>
    <child link="panda_left_rightfinger"/>
    <origin rpy="0 0 0" xyz="0 0 0.0584"/>
    <axis xyz="0 -1 0"/>
    <limit effort="100" lower="0.0" upper="0.04" velocity="0.2"/>
    <dynamics damping="0.03" friction="0.0"/>
    <mimic joint="panda_left_finger_joint1"/>
  </joint>
  <joint name="panda_right_hand_joint" type="fixed">
    <parent link="panda_right_link7"/>
    <child link="panda_right_hand"/>
    <origin rpy="0 0 -0.7853981633974483" xyz="0 0 0.107"/>
  </joint>
  <link name="panda_right_hand">
    <visual>
      <geometry>
        <mesh filename="../meshes/franka/visual/hand.dae"/>
      </geometry>
    </visual>
    <collision>
      <geometry>
        <mesh filename="../meshes/franka/collision/hand.stl"/>
      </geometry>
    </collision>
    <inertial>
      <mass value="0.73"/>
      <origin xyz="-0.01 0 0.03"/>
      <inertia ixx="0.001" ixy="0" ixz="0" iyy="0.0025" iyz="0" izz="0.0017"/>
    </inertial>
  </link>
  <link name="panda_right_leftfinger">
    <inertial>
      <mass value="0.015"/>
      <inertia ixx="2.3749999999999997e-06" ixy="0" ixz="0" iyy="2.3749999999999997e-06" iyz="0" izz="7.5e-07"/>
    </inertial>
    <visual>
      <geometry>
        <mesh filename="../meshes/franka/visual/finger.dae"/>
      </geometry>
    </visual>
    <!-- screw mount -->
    <collision>
      <origin rpy="0 0 0" xyz="0 +18.5e-3 11e-3"/>
      <geometry>
        <box size="22e-3 15e-3 20e-3"/>
      </geometry>
    </collision>
    <!-- cartriage sledge -->
    <collision>
      <origin rpy="0 0 0" xyz="0 +6.8e-3 2.2e-3"/>
      <geometry>
        <box size="22e-3 8.8e-3 3.8e-3"/>
      </geometry>
    </collision>
    <!-- diagonal finger -->
    <collision>
      <origin rpy="+0.5235987755982988 0 0" xyz="0 +15.9e-3 28.35e-3"/>
      <geometry>
        <box size="17.5e-3 7e-3 23.5e-3"/>
      </geometry>
    </collision>
    <!-- rubber tip with which to grasp -->
    <collision>
      <origin rpy="0 0 0" xyz="0 +7.58e-3 45.25e-3"/>
      <geometry>
        <box size="17.5e-3 15.2e-3 18.5e-3"/>
      </geometry>
    </collision>
  </link>
  <link name="panda_right_rightfinger">
    <inertial>
      <mass value="0.015"/>
      <inertia ixx="2.3749999999999997e-06" ixy="0" ixz="0" iyy="2.3749999999999997e-06" iyz="0" izz="7.5e-07"/>
    </inertial>
    <visual>
      <origin rpy="0 0 3.141592653589793" xyz="0 0 0"/>
      <geometry>
        <mesh filename="../meshes/franka/visual/finger.dae"/>
      </geometry>
    </visual>
    <!-- screw mount -->
    <collision>
      <origin rpy="0 0 0" xyz="0 -18.5e-3 11e-3"/>
      <geometry>
        <box size="22e-3 15e-3 20e-3"/>
      </geometry>
    </collision>
    <!-- cartriage sledge -->
    <collision>
      <origin rpy="0 0 0" xyz="0 -6.8e-3 2.2e-3"/>
      <geometry>
        <box size="22e-3 8.8e-3 3.8e-3"/>
      </geometry>
    </collision>
    <!-- diagonal finger -->
    <collision>
      <origin rpy="-0.5235987755982988 0 0" xyz="0 -15.9e-3 28.35e-3"/>
      <geometry>
        <box size="17.5e-3 7e-3 23.5e-3"/>
      </geometry>
    </collision>
    <!-- rubber tip with which to grasp -->
    <collision>
      <origin rpy="0 0 0" xyz="0 -7.58e-3 45.25e-3"/>
      <geometry>
        <box size="17.5e-3 15.2e-3 18.5e-3"/>
      </geometry>
    </collision>
  </link>
  <joint name="panda_right_finger_joint1" type="prismatic">
    <parent link="panda_right_hand"/>
    <child link="panda_right_leftfinger"/>
    <origin rpy="0 0 0" xyz="0 0 0.0584"/>
    <axis xyz="0 1 0"/>
    <limit effort="100" lower="0.0" upper="0.04" velocity="0.2"/>
    <dynamics damping="0.03" friction="0.0"/>
  </joint>
  <joint name="panda_right_finger_joint2" type="prismatic">
    <parent link="panda_right_hand"/>
    <child link="panda_right_rightfinger"/>
    <origin rpy="0 0 0" xyz="0 0 0.0584"/>
    <axis xyz="0 -1 0"/>
    <limit effort="100" lower="0.0" upper="0.04" velocity="0.2"/>
    <dynamics damping="0.03" friction="0.0"/>
    <mimic joint="panda_right_finger_joint1"/>
  </joint>
</robot>
